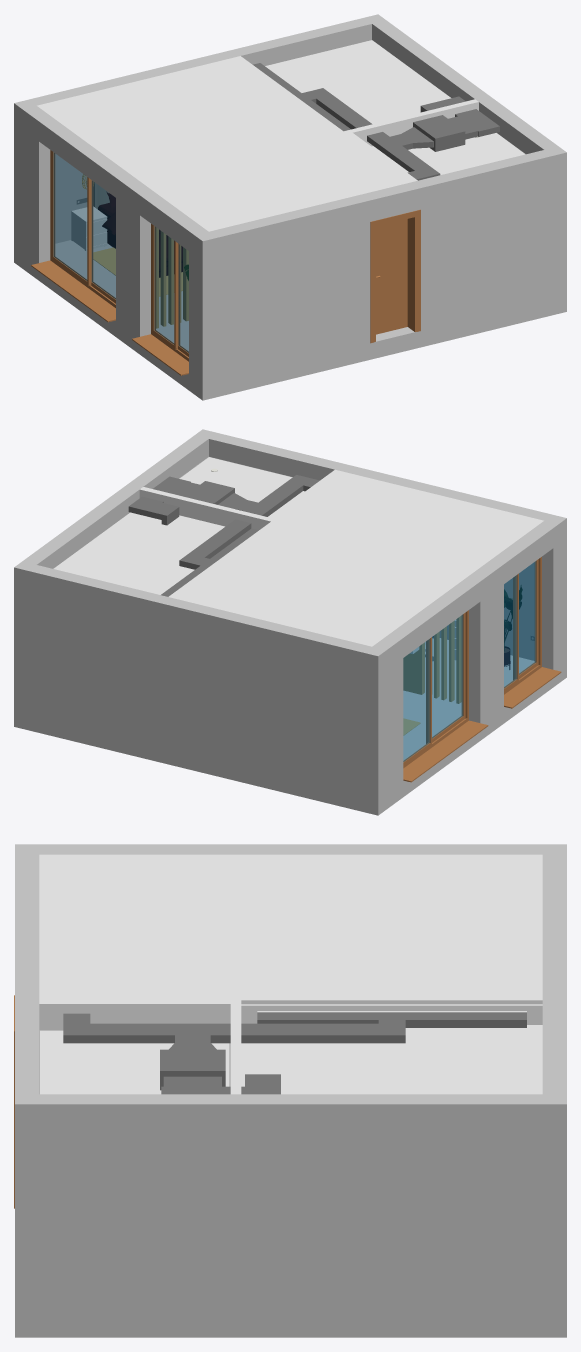
The model's file is Reajustarte_Dormitorio Stefany_00.glb.
The picture shows the model from 3 angles, top to bottom: view 1: azimuth 30°, elevation 25°; view 2: azimuth 150°, elevation 25°; view 3: azimuth 270°, elevation 25°; orthographic projection. The views are drawn at different scales.
Visible parts, largest first — view 1: Muros - Muro Exterior [1537044], Techos - Falso techo continuo de placa de yeso laminado [156 (×2), Muros - Muro Exterior [1537045], Suelos - Por defecto - 30 cm [1537106], Ventanas - Ventana del Cuarto [1537560], Muros - Muro Exterior [1537042], Muros - Muro Exterior [1537043], Puertas - 80 x 210 cm [1537048], Ventanas - Ventana estudio [1537559], Techos - Falso techo 2 de placa de yeso laminado [1569327], Muros - PALILLERIA [1537167], Muros - Por defecto - 12 cm [1537047] (+7 smaller); view 2: Muros - Muro Exterior [1537042], Techos - Falso techo continuo de placa de yeso laminado [156 (×2), Muros - Muro Exterior [1537045], Suelos - Por defecto - 30 cm [1537106], Ventanas - Ventana del Cuarto [1537560], Muros - Muro Exterior [1537044], Ventanas - Ventana estudio [1537559], Muros - Muro Exterior [1537043], Techos - Falso techo 2 de placa de yeso laminado [1569327], Muros - PALILLERIA [1537167], Muros - Por defecto - 12 cm [1537047], Conductos - Por defecto [1596264] (+4 smaller); view 3: Muros - Muro Exterior [1537043], Techos - Falso techo continuo de placa de yeso laminado [156 (×2), Suelos - Por defecto - 30 cm [1537106], Muros - Muro Exterior [1537042], Techos - Falso techo 2 de placa de yeso laminado [1569327], Muros - Muro Exterior [1537044], Muros - Muro Exterior [1537045], Muros - Por defecto - 10 cm [1537046], Conductos - Por defecto [1596264], Muros - Tabica - 3 cm [1569359], Equipos mecánicos - Unidad Interior [1571100], Conductos - Por defecto [1594435] (+6 smaller).
Boxes of the visible parts, bbox=[...] form: Muros - Muro Exterior [1537044]: bbox=[194, 150, 552, 383]; Techos - Falso techo continuo de placa de yeso laminado [156 (×2): bbox=[37, 40, 451, 231]; Muros - Muro Exterior [1537045]: bbox=[22, 106, 208, 377]; Suelos - Por defecto - 30 cm [1537106]: bbox=[14, 240, 566, 400]; Ventanas - Ventana del Cuarto [1537560]: bbox=[31, 150, 115, 322]; Muros - Muro Exterior [1537042]: bbox=[14, 14, 385, 251]; Muros - Muro Exterior [1537043]: bbox=[372, 20, 566, 298]; Puertas - 80 x 210 cm [1537048]: bbox=[370, 209, 420, 343]; Ventanas - Ventana estudio [1537559]: bbox=[132, 224, 188, 375]; Techos - Falso techo 2 de placa de yeso laminado [1569327]: bbox=[371, 133, 524, 174]; Muros - PALILLERIA [1537167]: bbox=[156, 227, 188, 328]; Muros - Por defecto - 12 cm [1537047]: bbox=[344, 99, 478, 145]; Muros - Muro Exterior [1537042]: bbox=[14, 561, 386, 798]; Techos - Falso techo continuo de placa de yeso laminado [156 (×2): bbox=[53, 471, 543, 646]; Muros - Muro Exterior [1537045]: bbox=[372, 521, 558, 792]; Suelos - Por defecto - 30 cm [1537106]: bbox=[14, 638, 566, 815]; Ventanas - Ventana del Cuarto [1537560]: bbox=[403, 610, 488, 782]; Muros - Muro Exterior [1537044]: bbox=[209, 433, 566, 666]; Ventanas - Ventana estudio [1537559]: bbox=[504, 557, 561, 708]; Muros - Muro Exterior [1537043]: bbox=[22, 429, 216, 568]; Techos - Falso techo 2 de placa de yeso laminado [1569327]: bbox=[179, 457, 304, 517]; Muros - PALILLERIA [1537167]: bbox=[419, 615, 461, 703]; Muros - Por defecto - 12 cm [1537047]: bbox=[139, 487, 274, 530]; Conductos - Por defecto [1596264]: bbox=[190, 519, 251, 558]; Muros - Muro Exterior [1537043]: bbox=[15, 1094, 542, 1312]; Techos - Falso techo continuo de placa de yeso laminado [156 (×2): bbox=[39, 854, 542, 1094]; Suelos - Por defecto - 30 cm [1537106]: bbox=[15, 1313, 566, 1337]; Muros - Muro Exterior [1537042]: bbox=[542, 844, 566, 1312]; Techos - Falso techo 2 de placa de yeso laminado [1569327]: bbox=[40, 1030, 229, 1094]; Muros - Muro Exterior [1537044]: bbox=[15, 844, 39, 1094]; Muros - Muro Exterior [1537045]: bbox=[39, 844, 542, 854]; Muros - Por defecto - 10 cm [1537046]: bbox=[39, 1000, 230, 1030]; Conductos - Por defecto [1596264]: bbox=[213, 1023, 376, 1043]; Muros - Tabica - 3 cm [1569359]: bbox=[241, 1004, 542, 1024]; Equipos mecánicos - Unidad Interior [1571100]: bbox=[160, 1049, 225, 1090]; Conductos - Por defecto [1594435]: bbox=[408, 1012, 526, 1027].
Size of the model in its own units: 6.99 by 2.86 by 6.15.
